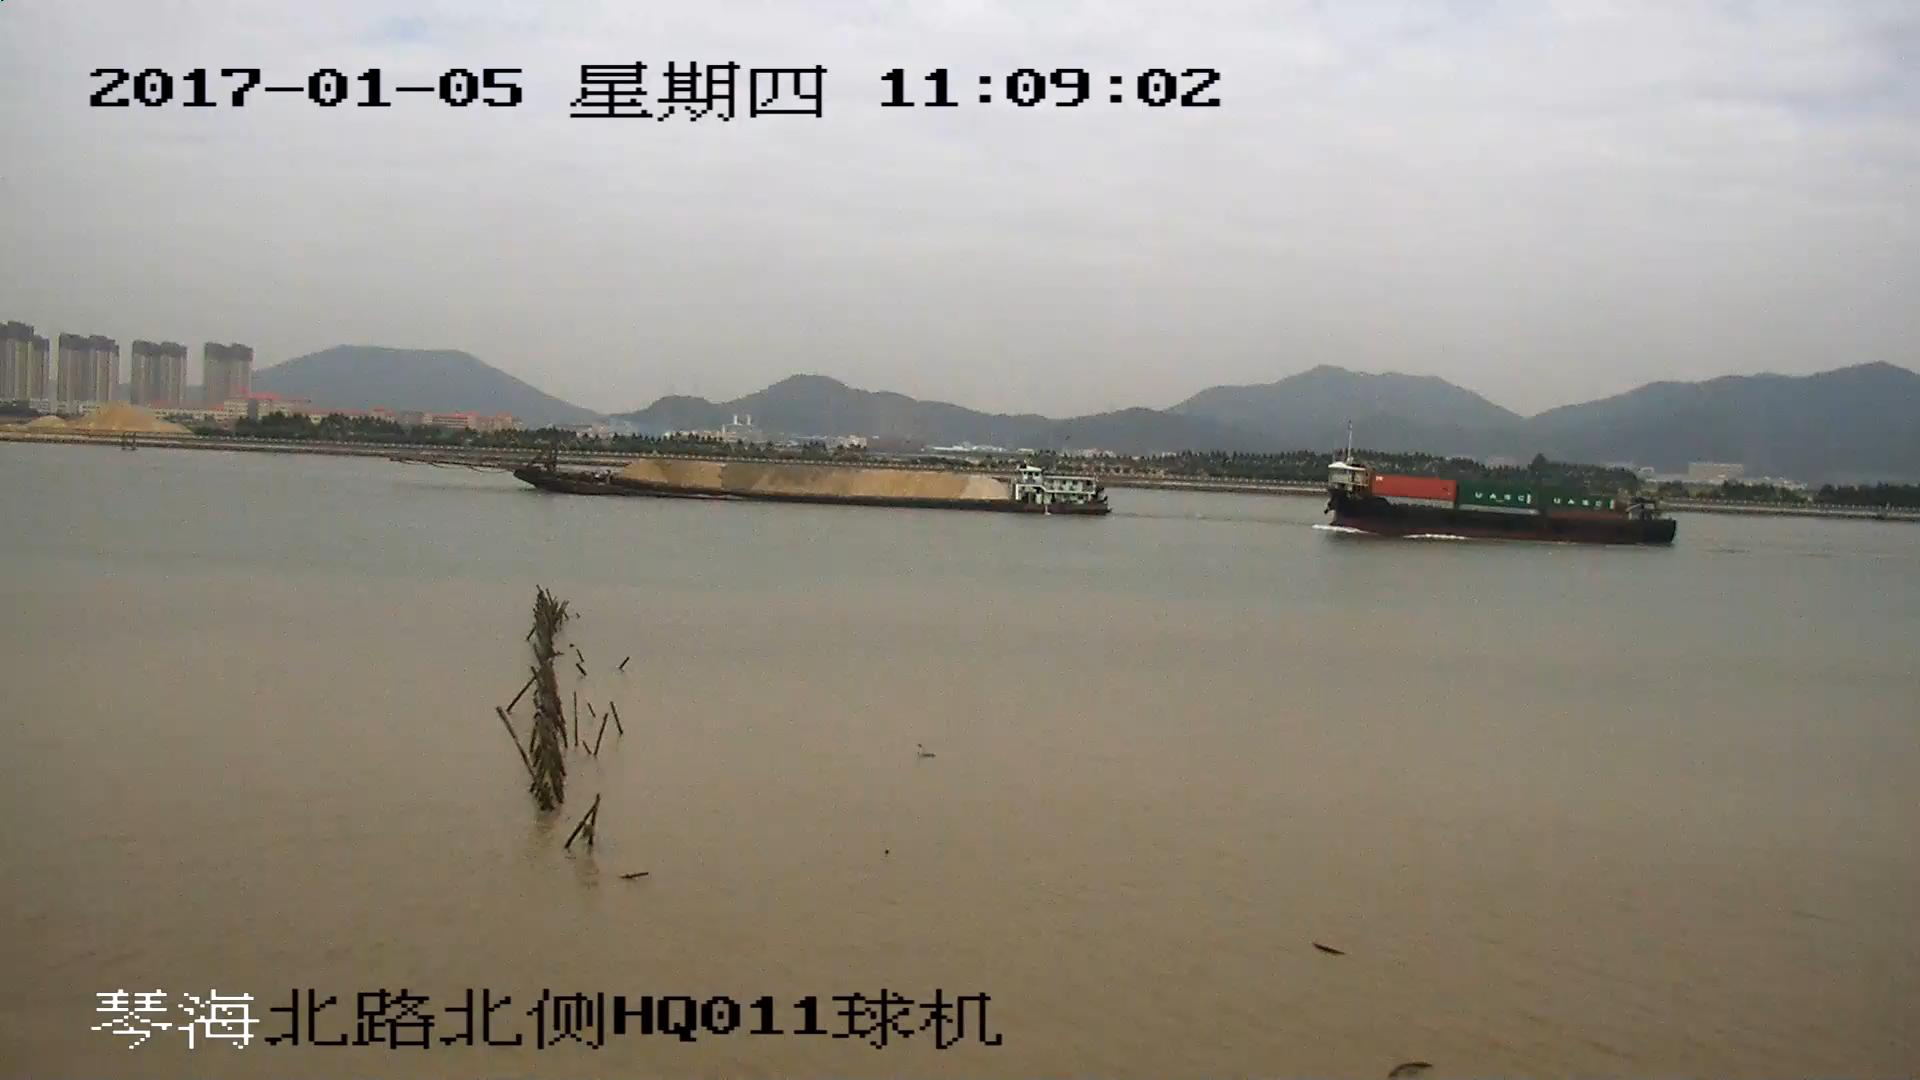container ship: (1324, 460, 1672, 540)
ore carrier: (414, 426, 1109, 518)
